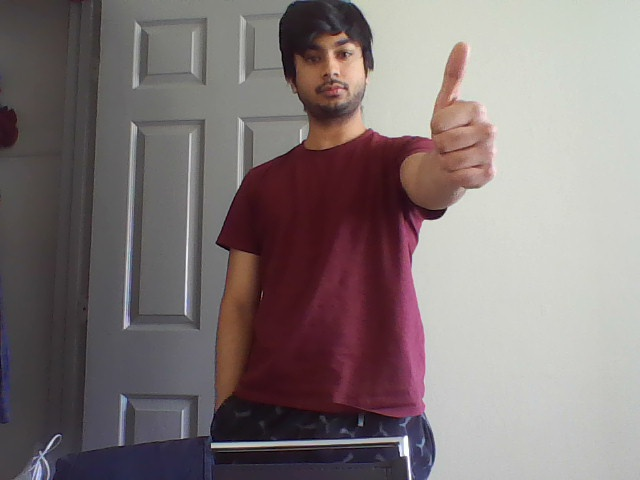confirm: (426, 39, 501, 198)
